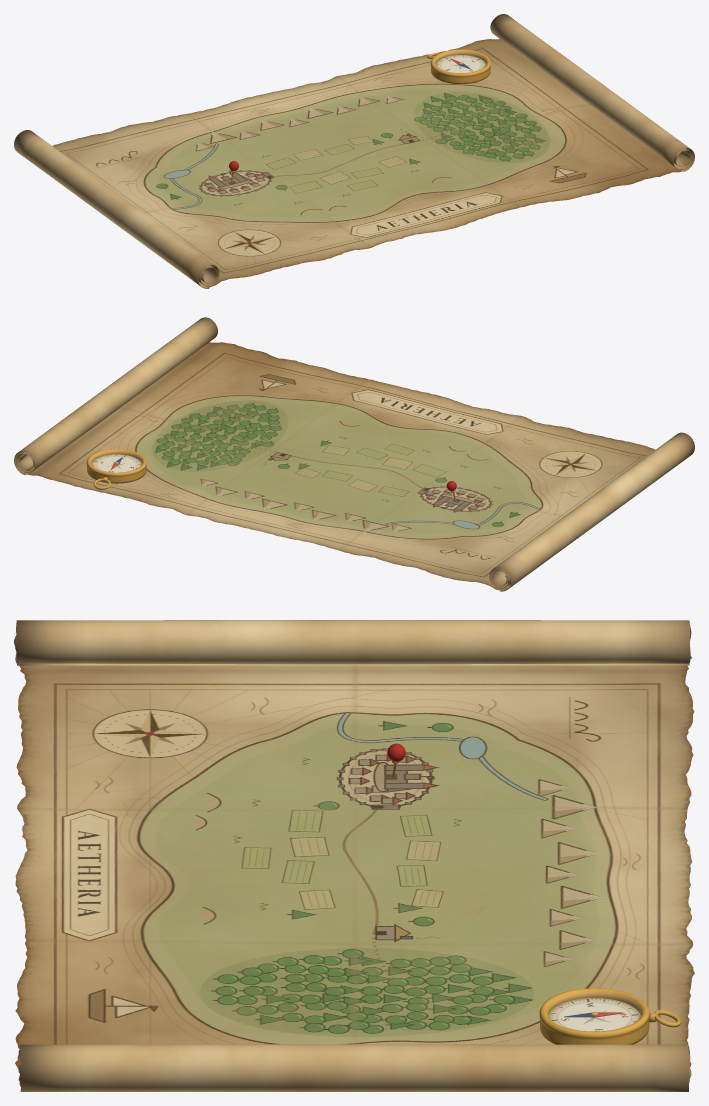
The model's file is adventurers_map.glb.
The picture shows the model from 3 angles, top to bottom: view 1: azimuth 30°, elevation 25°; view 2: azimuth 150°, elevation 25°; view 3: azimuth 270°, elevation 25°; orthographic projection. The views are drawn at different scales.
Visible parts, largest first — view 1: Map_Sheet, Map_Roll_Left, Map_Roll_Right, Compass_Case, Compass_Dial; view 2: Map_Sheet, Map_Roll_Left, Map_Roll_Right, Compass_Case, Compass_Dial; view 3: Map_Sheet, Map_Roll_Right, Map_Roll_Left, Compass_Case, Compass_Dial.
Part boxes in pixels (box(x1,y1,x2,y2)): Map_Sheet: box(52, 39, 682, 287); Map_Roll_Left: box(14, 130, 219, 288); Map_Roll_Right: box(490, 14, 694, 171); Compass_Case: box(430, 49, 490, 83); Compass_Dial: box(435, 55, 485, 72); Map_Sheet: box(26, 342, 655, 590); Map_Roll_Left: box(489, 432, 694, 591); Map_Roll_Right: box(14, 317, 217, 474); Compass_Case: box(86, 449, 146, 483); Compass_Dial: box(91, 454, 141, 472); Map_Sheet: box(15, 665, 694, 1073); Map_Roll_Right: box(18, 1044, 691, 1091); Map_Roll_Left: box(14, 620, 692, 665); Compass_Case: box(539, 988, 649, 1044); Compass_Dial: box(548, 998, 640, 1031).
Bounding box in the file's own units: 0.6641 × 0.0342 × 0.4304.
Materials: 2 (1 with a texture image).
